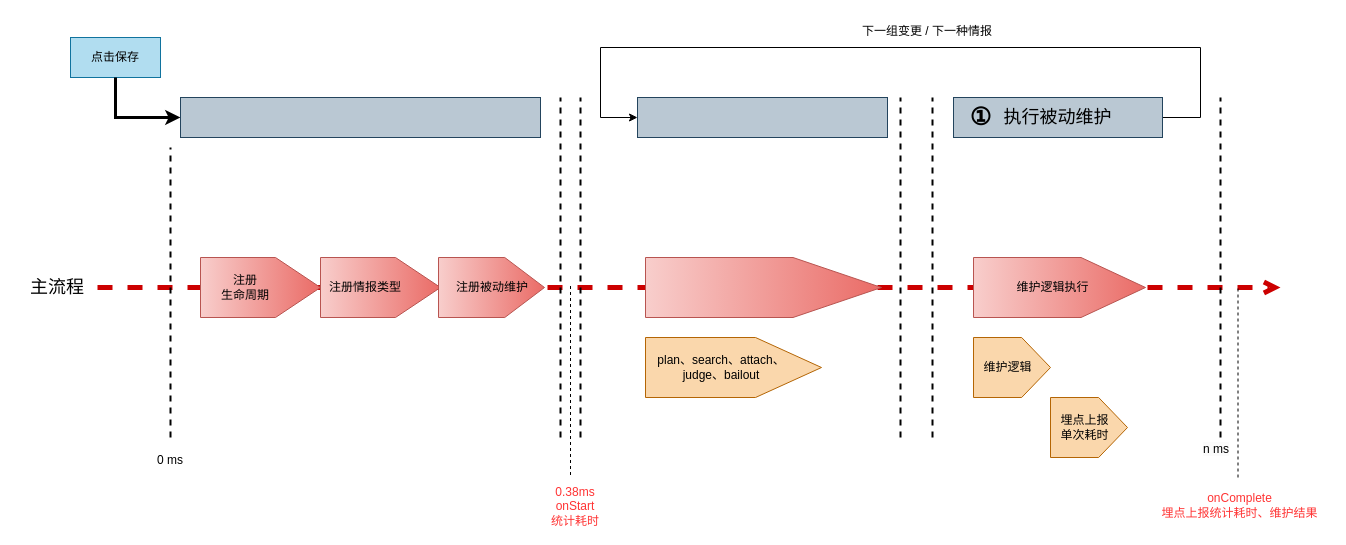
Some shapes in this 1346 by 545 pixel diagram are drawn without their labels. Each missing label, with the centre of its shape:
"初始化框架" belongs at pixel 360 117.
"发现情报" belongs at pixel 762 117.
"根据情报类型 在变更中查找维护情报" belongs at pixel 763 287.
